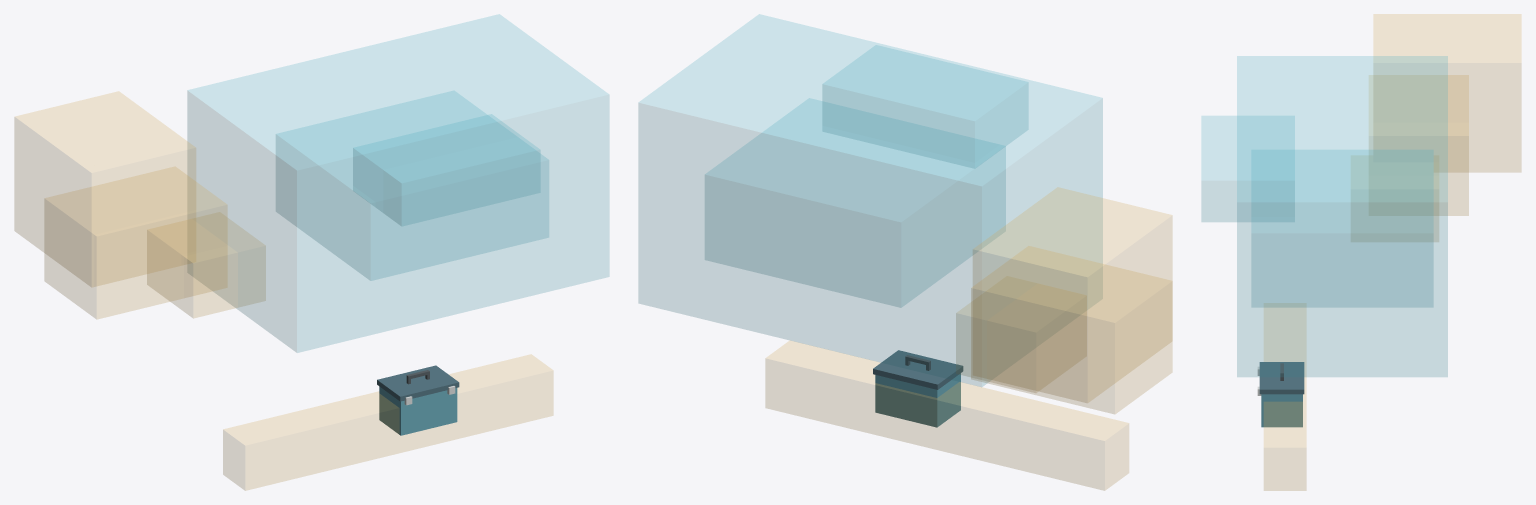
Rendered from twin-logistics-asset-scene.gltf.
The picture shows the model from 3 angles, left to right: view 1: azimuth 30°, elevation 25°; view 2: azimuth 150°, elevation 25°; view 3: azimuth 270°, elevation 25°; orthographic projection. The views are drawn at different scales.
Visible parts, largest first — view 1: EQ-0002 보관 랙, EQ-0004 출고 상자 묶음, EQ-0006 보관 용기 묶음, EQ-0003 이송 팔레트, EQ-0001 바닥, EQ-0007 상단 보관 상자, EQ-0005 핸드 팔레트 트럭, equipment-case, lid; view 2: EQ-0002 보관 랙, EQ-0006 보관 용기 묶음, EQ-0004 출고 상자 묶음, EQ-0003 이송 팔레트, EQ-0001 바닥, EQ-0007 상단 보관 상자, equipment-case, lid, EQ-0005 핸드 팔레트 트럭; view 3: EQ-0002 보관 랙, EQ-0006 보관 용기 묶음, EQ-0004 출고 상자 묶음, EQ-0007 상단 보관 상자, EQ-0001 바닥, EQ-0003 이송 팔레트, lid, equipment-case, EQ-0005 핸드 팔레트 트럭.
Part boxes in pixels (x1,y1,x2,y2): EQ-0002 보관 랙: [187, 14, 609, 352]; EQ-0004 출고 상자 묶음: [14, 91, 195, 286]; EQ-0006 보관 용기 묶음: [276, 91, 548, 280]; EQ-0003 이송 팔레트: [44, 167, 227, 318]; EQ-0001 바닥: [223, 354, 553, 490]; EQ-0007 상단 보관 상자: [353, 114, 540, 225]; EQ-0005 핸드 팔레트 트럭: [147, 218, 265, 318]; equipment-case: [379, 386, 457, 435]; lid: [377, 365, 459, 401]; EQ-0002 보관 랙: [638, 14, 1102, 386]; EQ-0006 보관 용기 묶음: [705, 98, 1005, 307]; EQ-0004 출고 상자 묶음: [973, 187, 1172, 402]; EQ-0003 이송 팔레트: [971, 246, 1172, 413]; EQ-0001 바닥: [765, 341, 1128, 490]; EQ-0007 상단 보관 상자: [823, 45, 1027, 162]; equipment-case: [875, 373, 960, 427]; lid: [873, 350, 963, 389]; EQ-0005 핸드 팔레트 트럭: [956, 303, 1037, 392]; EQ-0002 보관 랙: [1237, 56, 1447, 376]; EQ-0006 보관 용기 묶음: [1252, 150, 1432, 306]; EQ-0004 출고 상자 묶음: [1373, 14, 1521, 172]; EQ-0007 상단 보관 상자: [1201, 116, 1294, 221]; EQ-0001 바닥: [1264, 307, 1306, 490]; EQ-0003 이송 팔레트: [1369, 75, 1468, 215]; lid: [1259, 362, 1304, 394]; equipment-case: [1261, 394, 1302, 427]; EQ-0005 핸드 팔레트 트럭: [1433, 175, 1438, 241].
Size of the model in its own units: 3.42 by 2.35 by 2.21.
